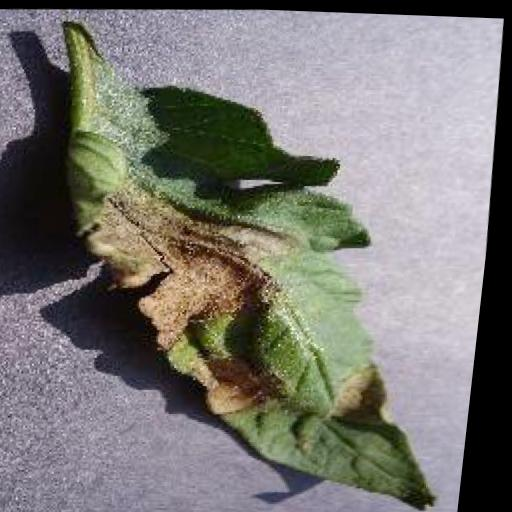Late Blight: (36, 64, 484, 512)
